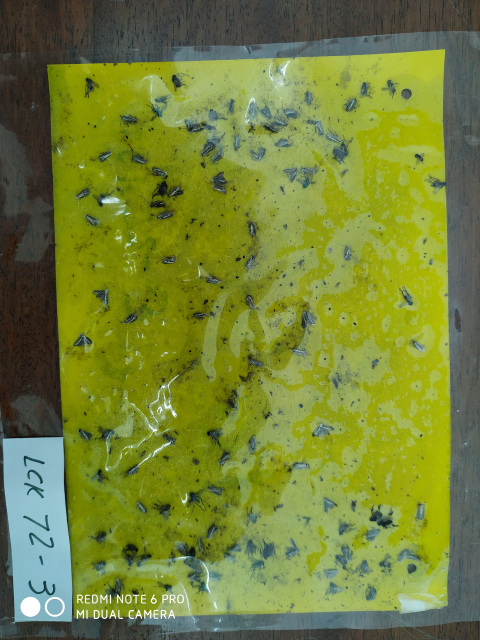DBM: (70, 329, 95, 349), (181, 116, 206, 135), (145, 164, 171, 182), (311, 421, 335, 440), (337, 242, 357, 263), (89, 287, 109, 308), (320, 493, 340, 514), (340, 96, 362, 115), (242, 292, 261, 314), (300, 307, 317, 331), (165, 182, 186, 201), (117, 112, 141, 128), (197, 138, 216, 158), (407, 337, 427, 356), (299, 87, 317, 108), (127, 149, 148, 167), (142, 195, 168, 209), (280, 103, 300, 121), (270, 135, 294, 150), (338, 544, 356, 564), (208, 170, 229, 187), (361, 525, 382, 542), (311, 117, 327, 139), (231, 131, 246, 154), (324, 127, 343, 145), (282, 164, 300, 183), (242, 254, 261, 272), (159, 430, 178, 448), (204, 520, 220, 541), (192, 535, 208, 556), (154, 208, 176, 223), (246, 432, 259, 457), (170, 541, 189, 558), (185, 569, 205, 585), (414, 501, 428, 523), (76, 427, 94, 444), (72, 185, 91, 201), (245, 220, 261, 239), (205, 483, 224, 499), (298, 164, 319, 178), (289, 346, 310, 360), (95, 148, 113, 164), (82, 212, 100, 228), (201, 274, 223, 287), (291, 458, 313, 471), (248, 146, 267, 161), (259, 101, 273, 121), (159, 253, 179, 267), (245, 100, 258, 121), (393, 545, 408, 563), (121, 312, 140, 326), (208, 183, 228, 196), (216, 450, 231, 467), (270, 113, 288, 127), (219, 552, 237, 566), (227, 541, 244, 555), (191, 309, 209, 322), (123, 464, 140, 477), (323, 567, 338, 581), (403, 552, 423, 562), (134, 500, 147, 514)
